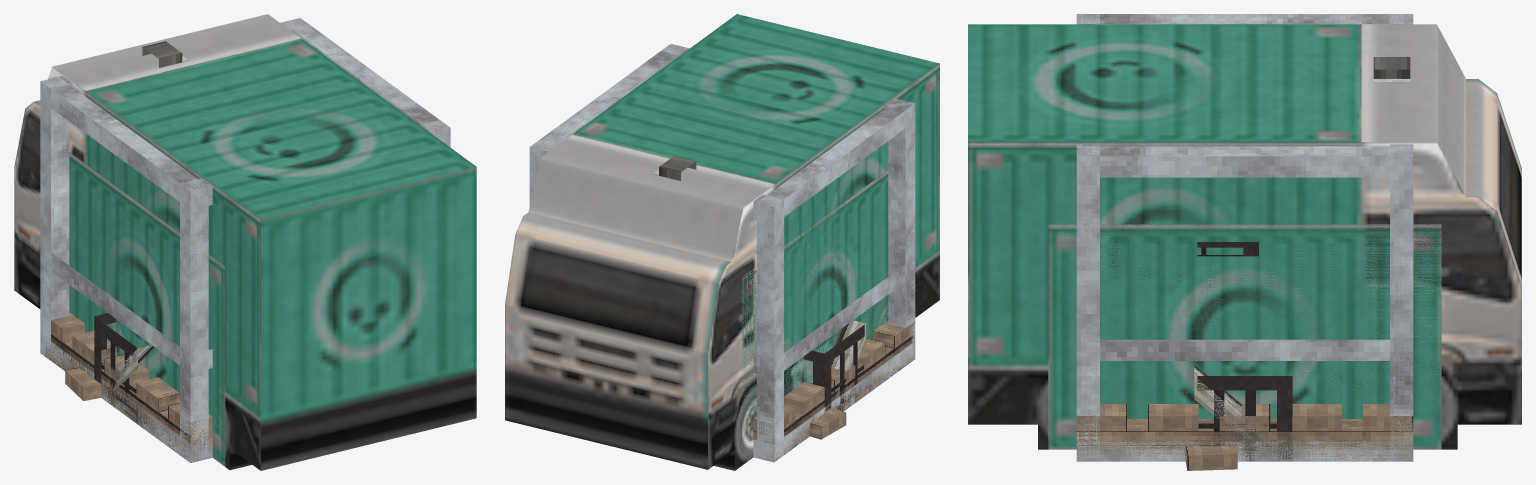
File: kit_urban.glb
3 renders of one model, left to right at view 1: azimuth 30°, elevation 25°; view 2: azimuth 150°, elevation 25°; view 3: azimuth 270°, elevation 25°, orthographic. The views are drawn at different scales.
Visible parts, largest first — view 1: truck-green, truck-green-cargo, scaffolding-structure, scaffolding-poles, pallet, scaffolding-floor, balcony-ladder-bottom, detail-awning-wide, balcony-ladder-top, planks, detail-light-traffic; view 2: truck-green, truck-green-cargo, scaffolding-structure, scaffolding-poles, pallet, scaffolding-floor, balcony-ladder-top, detail-awning-wide, planks, balcony-ladder-bottom, detail-light-traffic; view 3: truck-green, truck-green-cargo, scaffolding-structure, scaffolding-poles, pallet, scaffolding-floor, balcony-ladder-bottom, balcony-ladder-top, detail-awning-wide, planks, detail-light-traffic.
Part boxes in pixels (x1=…): truck-green: x1=14, y1=14, x2=476, y2=470; truck-green-cargo: x1=69, y1=152, x2=225, y2=466; scaffolding-structure: x1=41, y1=18, x2=449, y2=454; scaffolding-poles: x1=40, y1=18, x2=450, y2=460; pallet: x1=40, y1=312, x2=212, y2=461; scaffolding-floor: x1=40, y1=338, x2=212, y2=462; balcony-ladder-bottom: x1=94, y1=313, x2=136, y2=402; detail-awning-wide: x1=108, y1=345, x2=154, y2=424; balcony-ladder-top: x1=94, y1=321, x2=136, y2=406; planks: x1=65, y1=367, x2=101, y2=400; detail-light-traffic: x1=142, y1=41, x2=188, y2=67; truck-green: x1=505, y1=14, x2=939, y2=470; truck-green-cargo: x1=741, y1=170, x2=888, y2=448; scaffolding-structure: x1=530, y1=44, x2=915, y2=439; scaffolding-poles: x1=529, y1=44, x2=915, y2=461; pallet: x1=753, y1=320, x2=915, y2=462; scaffolding-floor: x1=753, y1=341, x2=915, y2=461; balcony-ladder-top: x1=804, y1=324, x2=864, y2=412; detail-awning-wide: x1=831, y1=320, x2=865, y2=403; planks: x1=810, y1=408, x2=846, y2=439; balcony-ladder-bottom: x1=804, y1=333, x2=863, y2=384; detail-light-traffic: x1=653, y1=156, x2=696, y2=180; truck-green: x1=968, y1=24, x2=1521, y2=449; truck-green-cargo: x1=1048, y1=224, x2=1441, y2=449; scaffolding-structure: x1=1076, y1=14, x2=1413, y2=461; scaffolding-poles: x1=1076, y1=14, x2=1413, y2=461; pallet: x1=1076, y1=404, x2=1413, y2=461; scaffolding-floor: x1=1076, y1=440, x2=1413, y2=461; balcony-ladder-bottom: x1=1197, y1=242, x2=1292, y2=461; balcony-ladder-top: x1=1197, y1=376, x2=1292, y2=459; detail-awning-wide: x1=1194, y1=364, x2=1291, y2=460; planks: x1=1185, y1=446, x2=1237, y2=470; detail-light-traffic: x1=1373, y1=57, x2=1410, y2=83.
Bounding box in the file's own units: 1.13 × 1.04 × 1.64.
11 materials, 11 textured.
